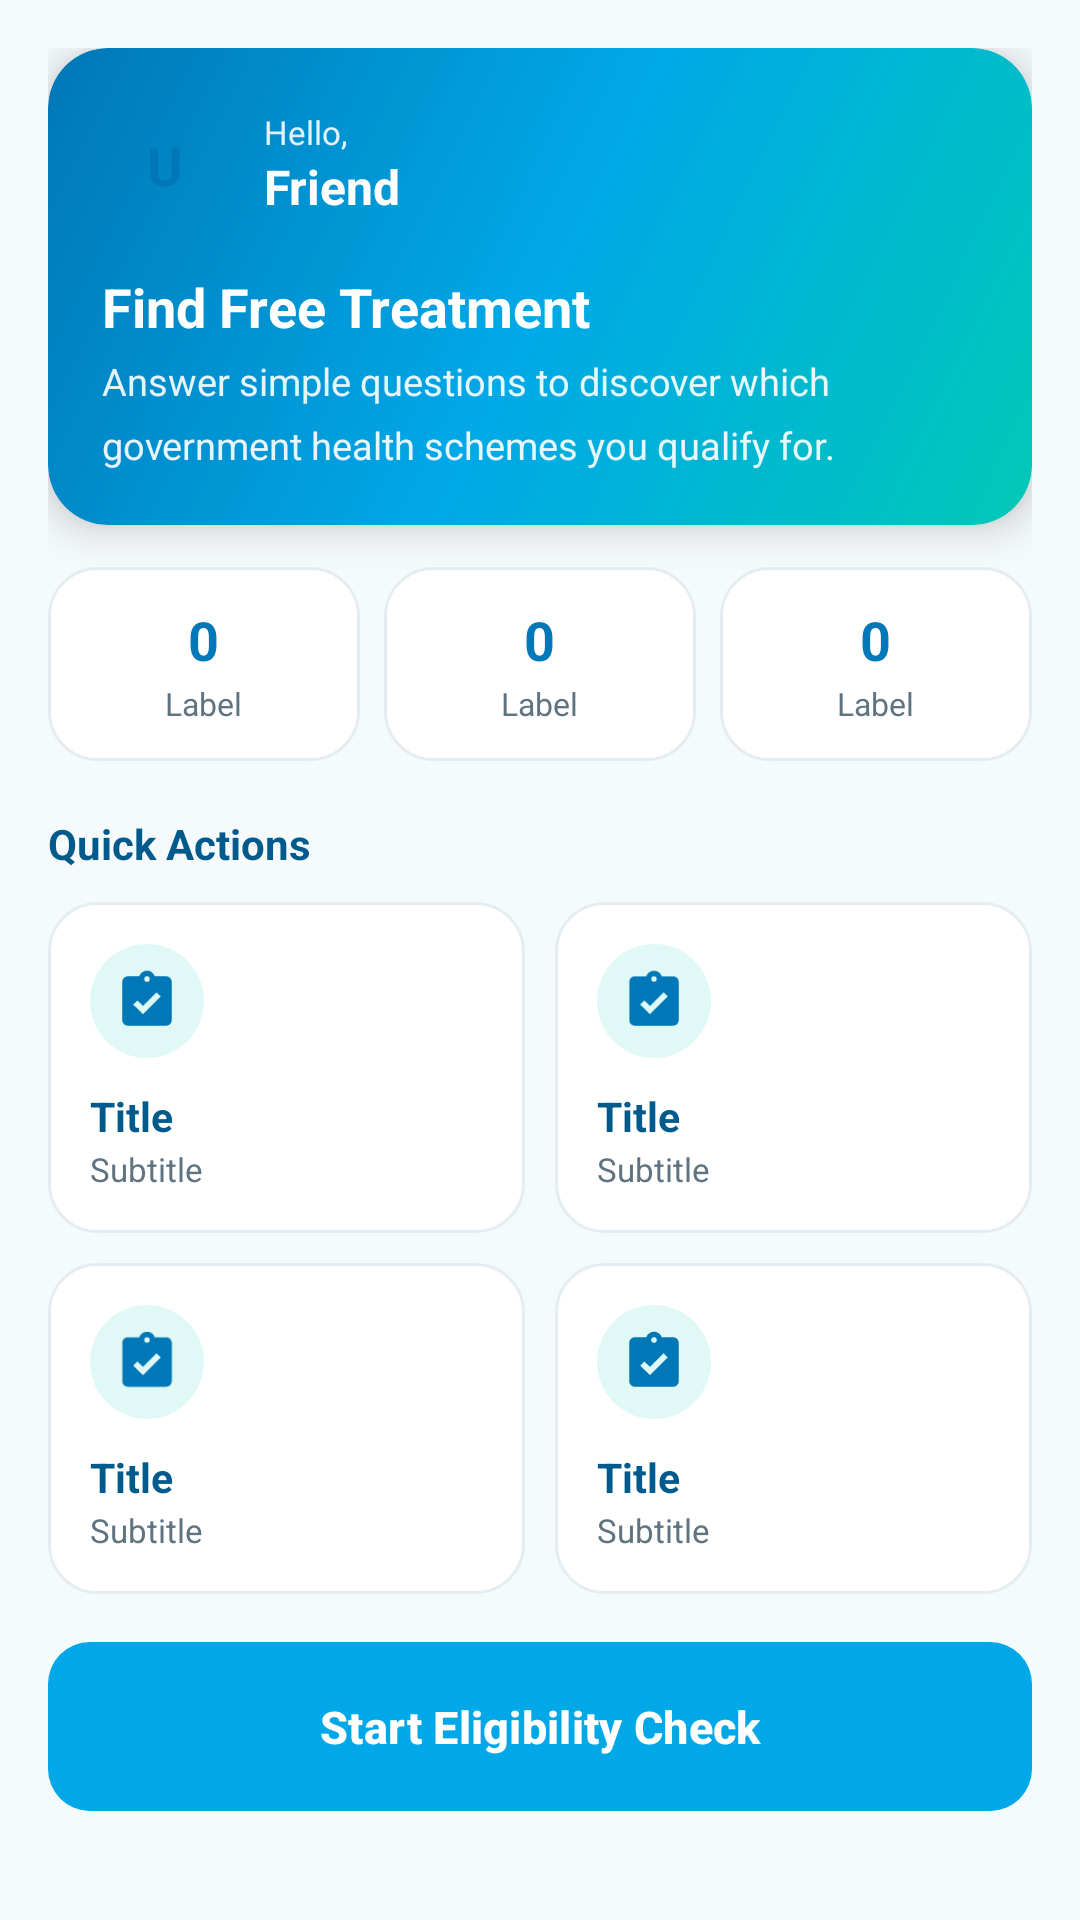

Where icons sit on this 1080 x 1920 app screen, as (x1, y1, x2, y2):
check clipboard: (122, 970, 172, 1026), (629, 970, 679, 1026), (122, 1331, 173, 1388), (629, 1331, 679, 1387)
